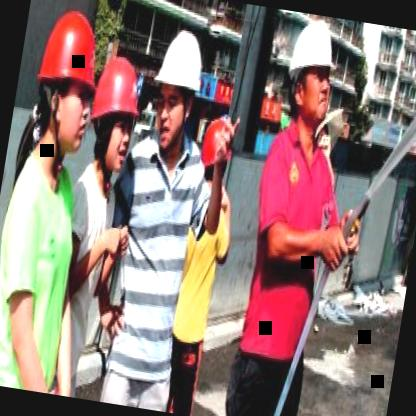helmet: (22, 9, 103, 166), (71, 50, 138, 178), (148, 21, 212, 150), (274, 17, 340, 136), (194, 113, 238, 192)
